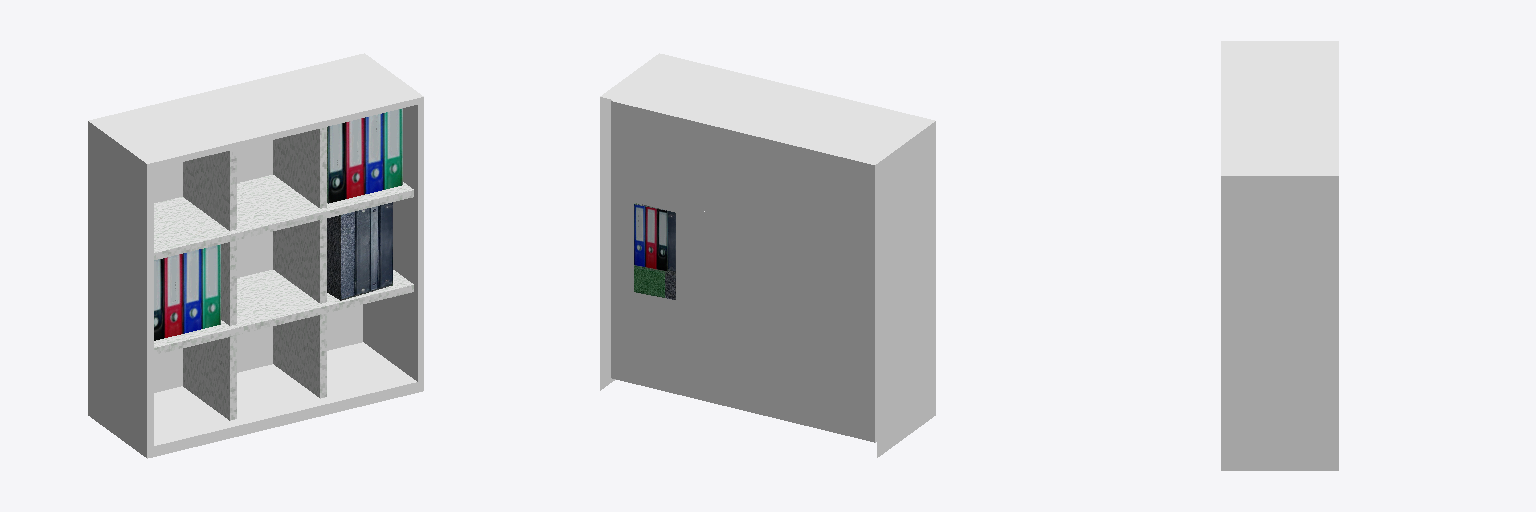
3 views of the same model, side by side, from view 1: azimuth 30°, elevation 25°; view 2: azimuth 150°, elevation 25°; view 3: azimuth 270°, elevation 25° (orthographic).
Parts seen in each view (by area): view 1: MED_OFFICE_UNIT_4; view 2: MED_OFFICE_UNIT_4; view 3: MED_OFFICE_UNIT_4.
Part boxes in pixels (x1,y1,x2,y2): MED_OFFICE_UNIT_4: (88, 53, 423, 458); MED_OFFICE_UNIT_4: (600, 53, 935, 457); MED_OFFICE_UNIT_4: (1221, 41, 1338, 470).
Bounding box in the file's own units: 1.33 × 1.35 × 0.4943.
3 materials, 2 textured.